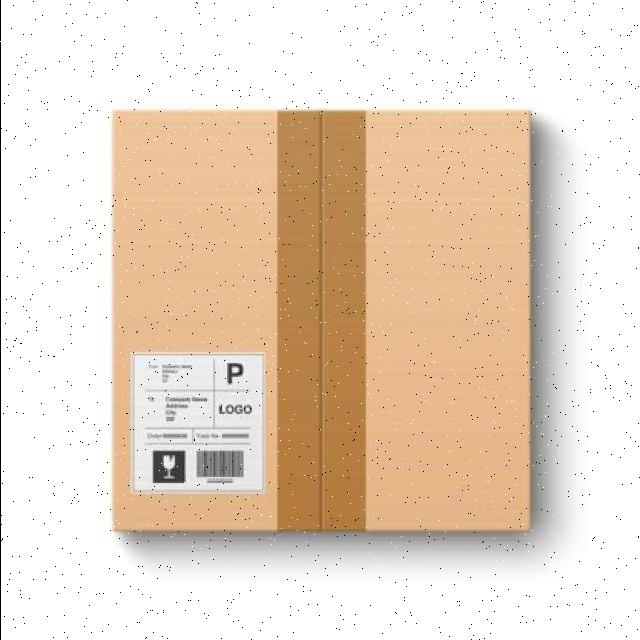normal: (102, 100, 540, 543)
